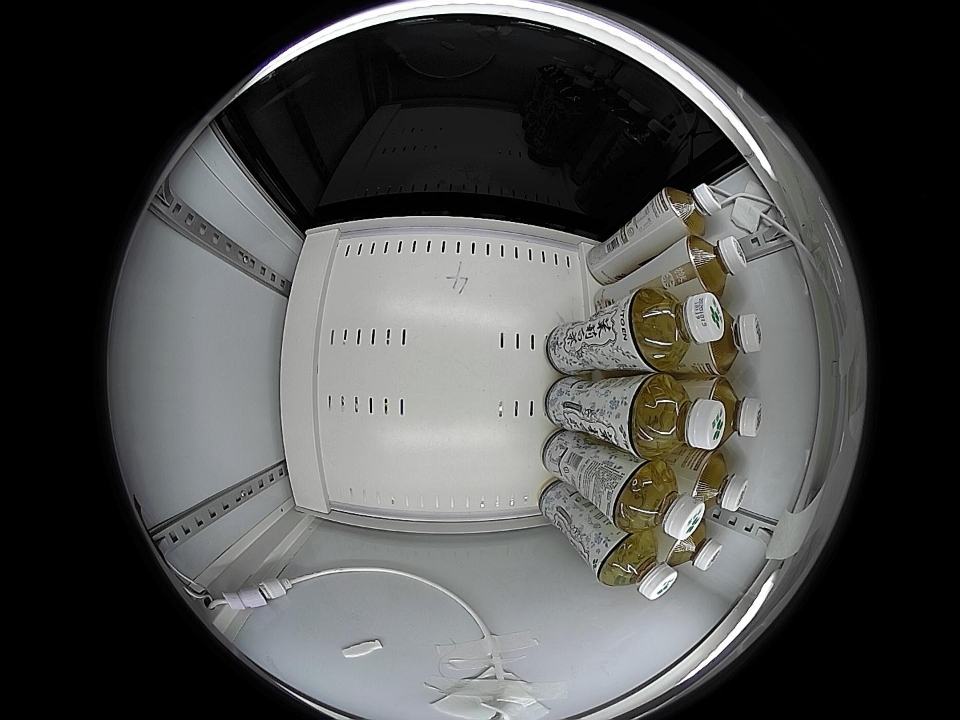baicha: (627, 287, 726, 372), (628, 374, 726, 457), (612, 461, 704, 540), (597, 532, 678, 600)
rancha-2: (703, 377, 764, 447), (701, 308, 763, 375), (685, 235, 749, 296), (687, 451, 749, 513), (664, 517, 723, 572), (663, 182, 722, 236)
